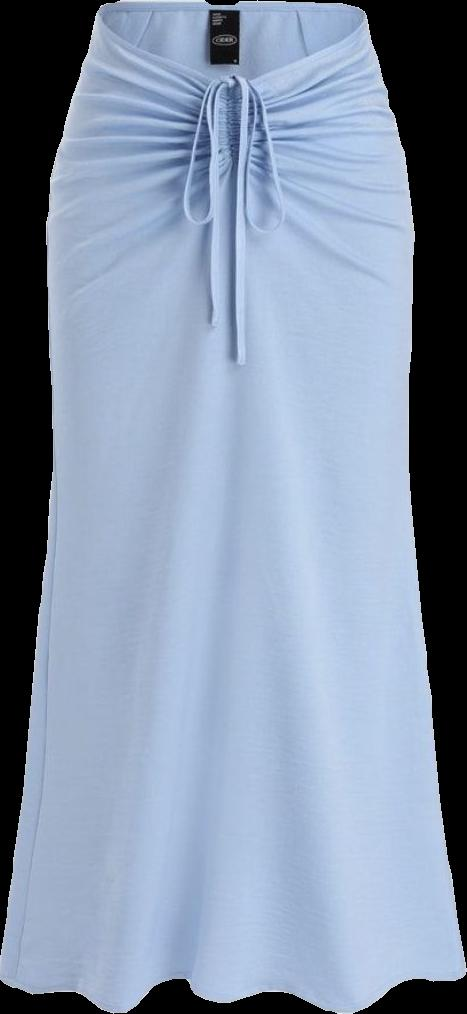Hemline: (0, 968, 466, 1013)
Waistline: (97, 7, 372, 94)
